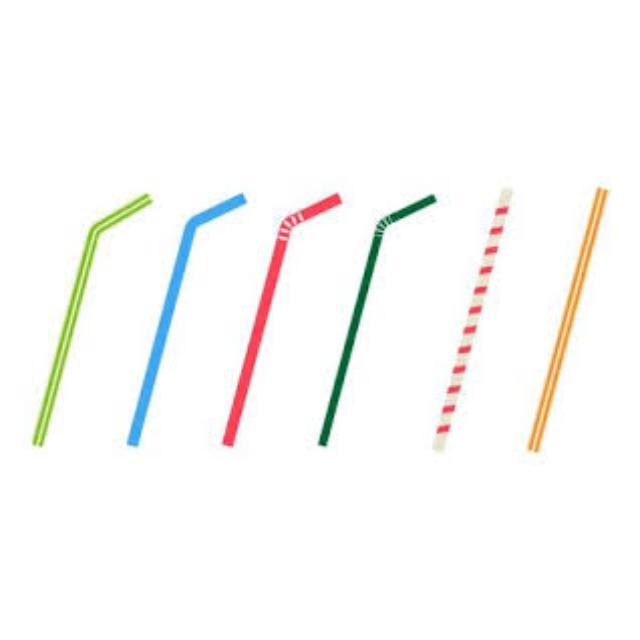Plastico descartable: (317, 196, 439, 451), (126, 195, 246, 450), (33, 194, 152, 450), (223, 195, 341, 449), (528, 187, 612, 457), (435, 189, 512, 450)
